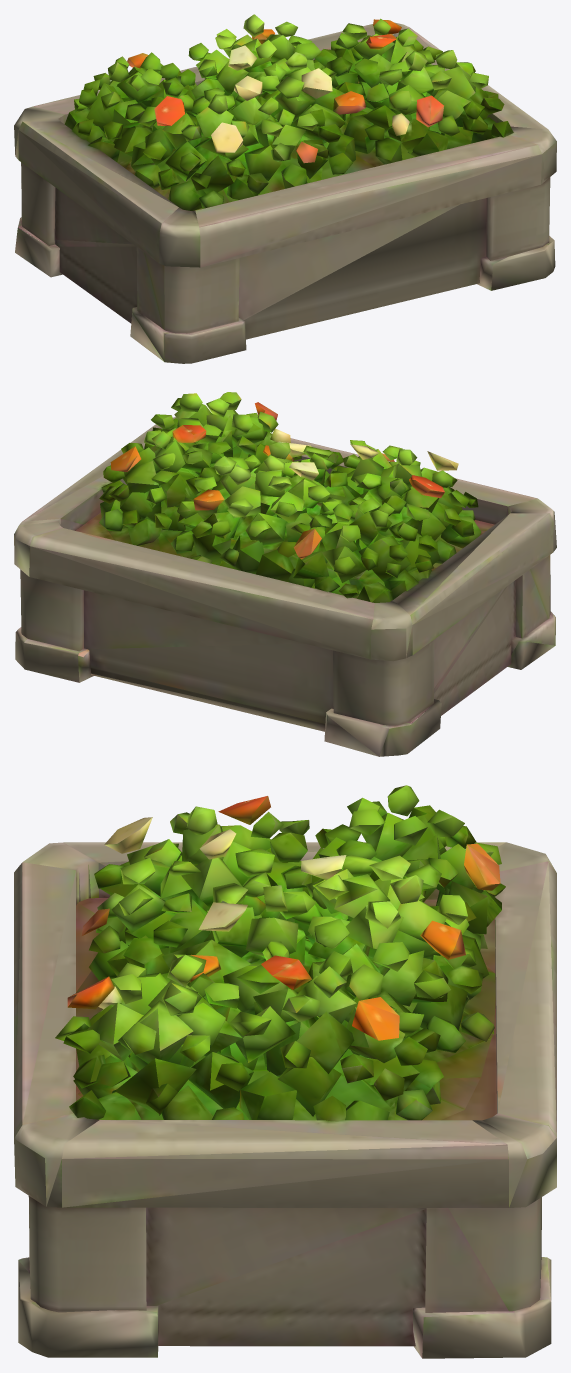
Rendered from flowerpot.glb.
The picture shows the model from 3 angles, top to bottom: view 1: azimuth 30°, elevation 25°; view 2: azimuth 150°, elevation 25°; view 3: azimuth 270°, elevation 25°; orthographic projection. The views are drawn at different scales.
Bounding box in the file's own units: 1.4 × 0.7273 × 1.05.
1 material, 1 textured.
